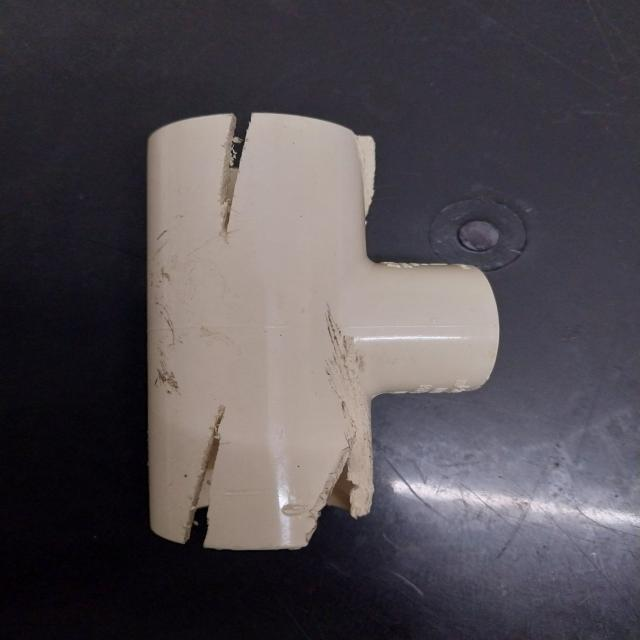Defective: (128, 222, 192, 414), (314, 434, 384, 580), (220, 100, 275, 266), (178, 402, 233, 560), (320, 288, 386, 408)
T Joint: (145, 112, 500, 554)
